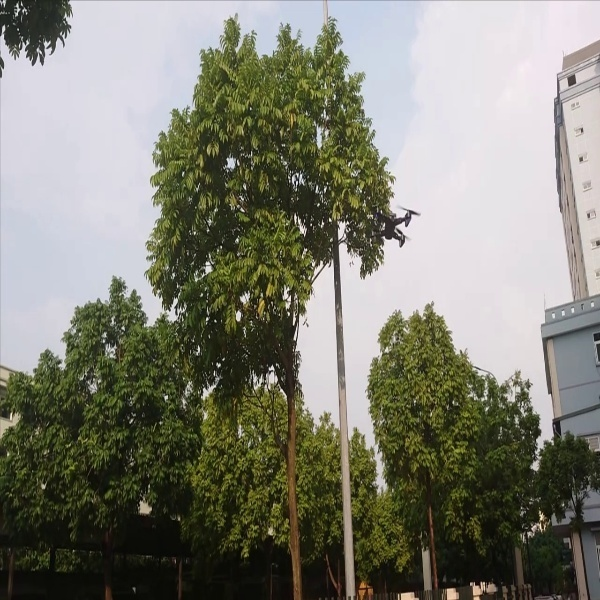drone: (366, 193, 419, 251)
